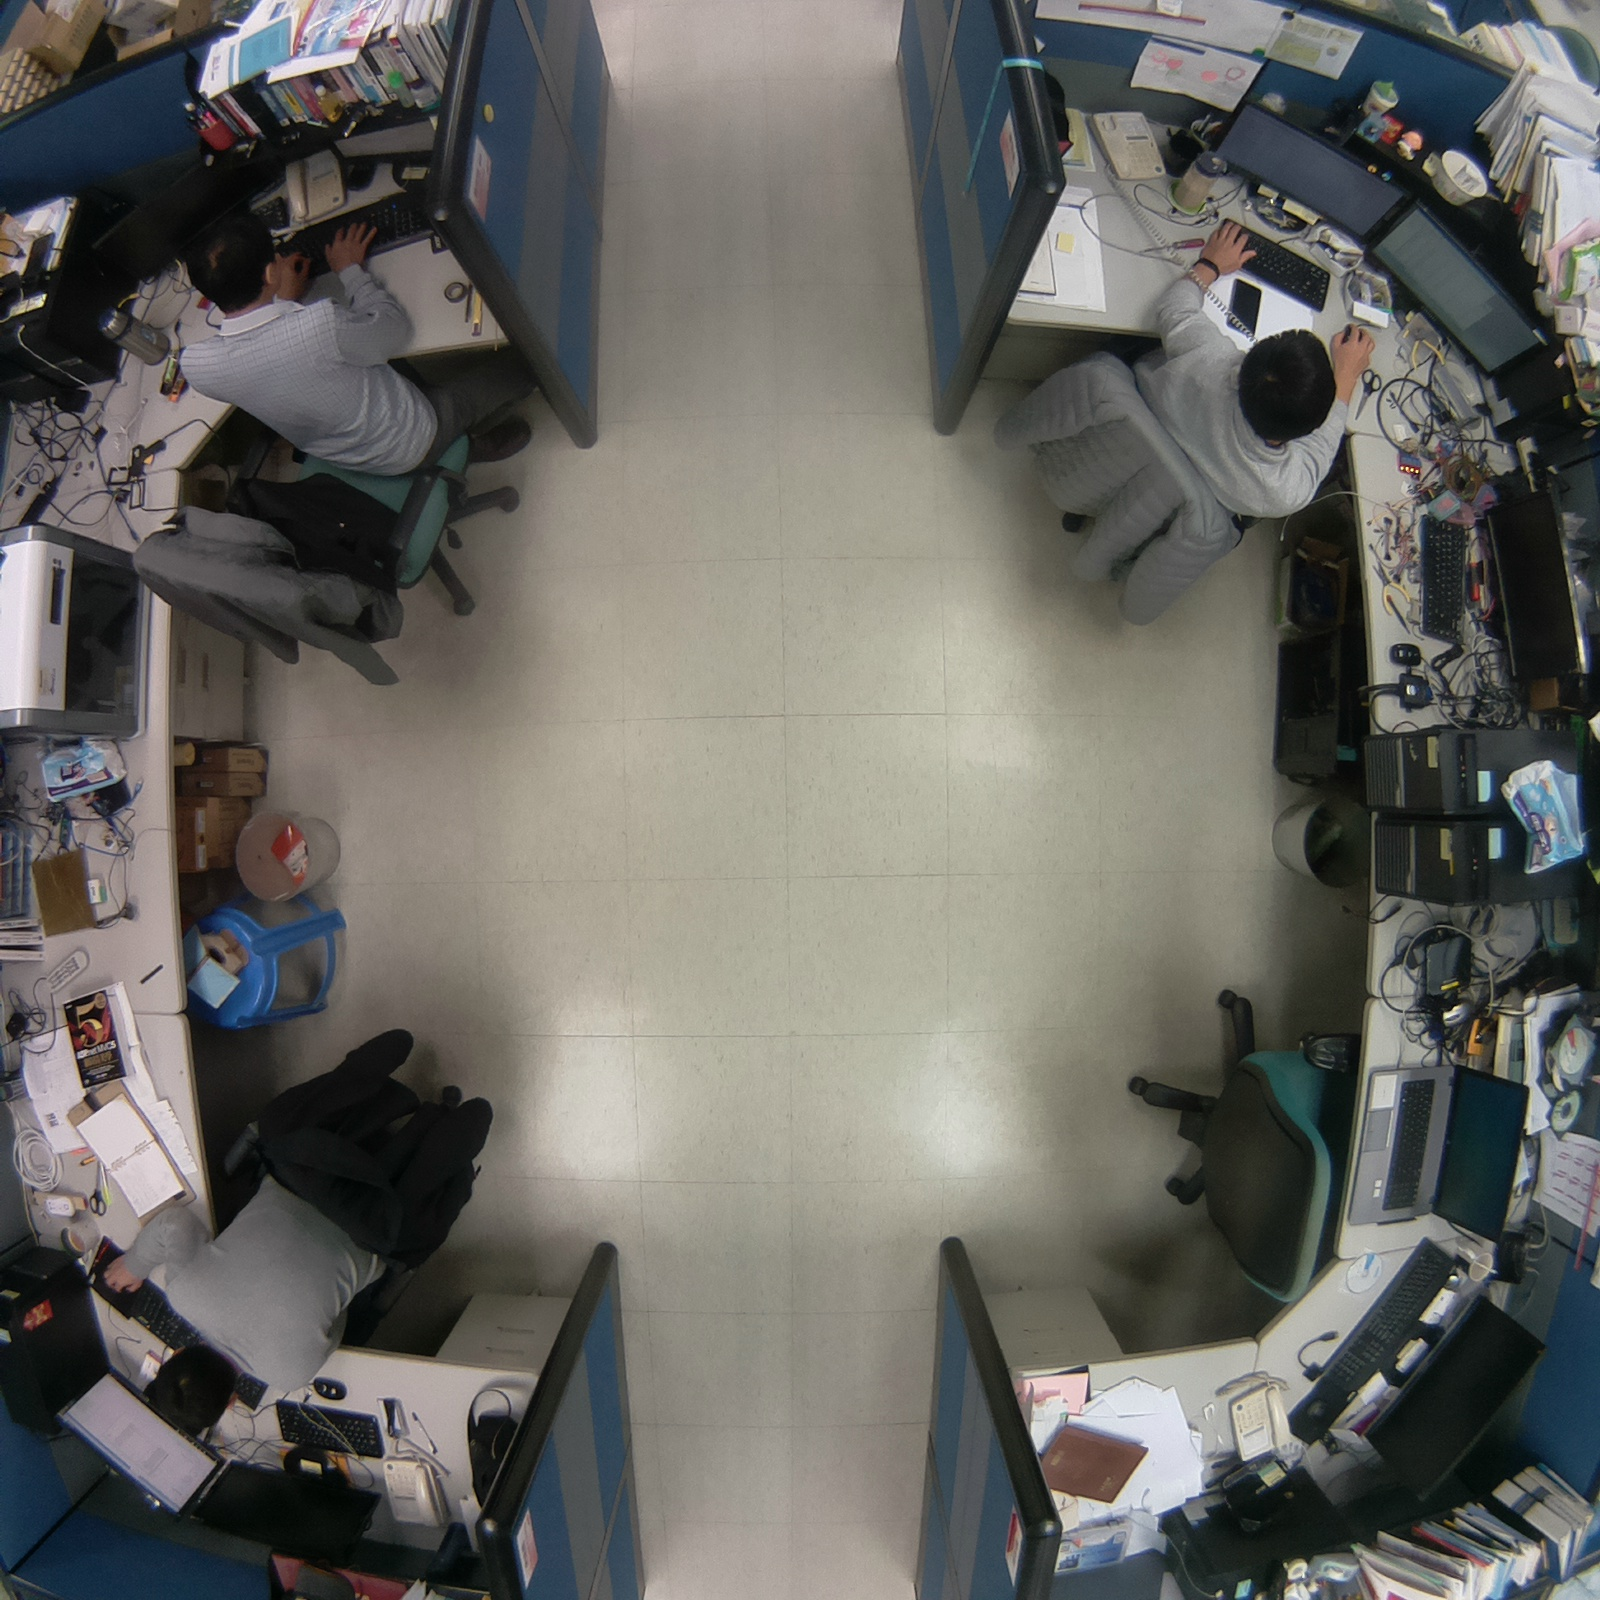chair: (1106, 975, 1381, 1324)
head: (1234, 317, 1344, 451), (172, 200, 285, 321), (140, 1342, 240, 1442)
sitting: (109, 196, 542, 711), (88, 1011, 514, 1438), (983, 243, 1371, 647)
